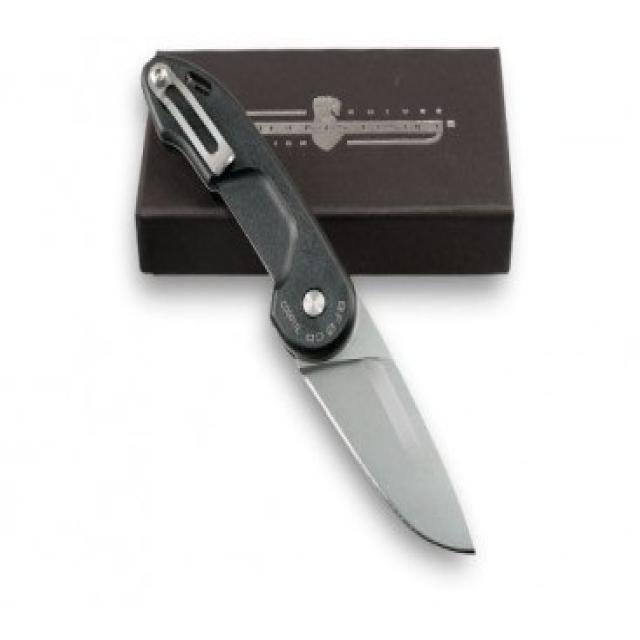knife: (132, 43, 485, 569)
